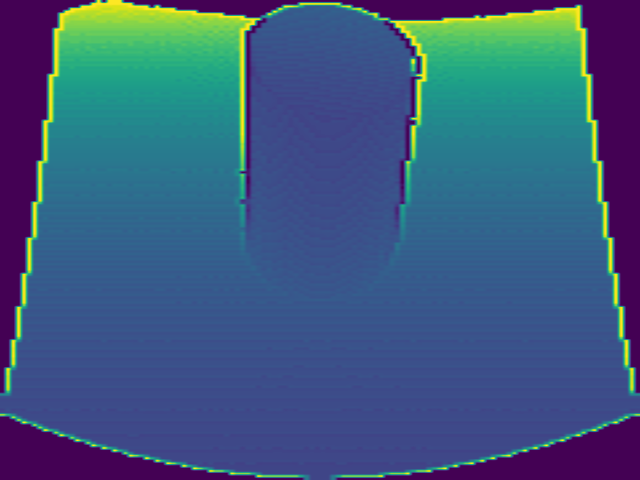cylinder: (240, 3, 426, 281)
